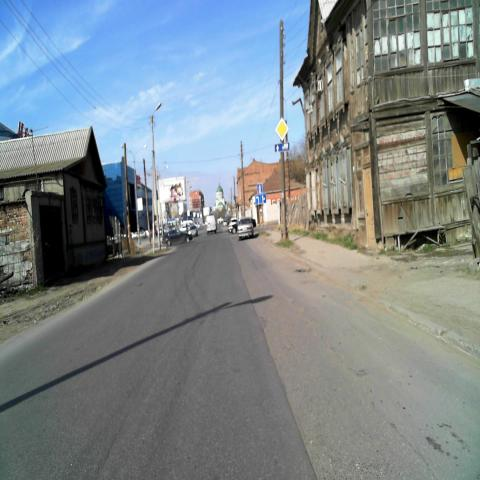6_15_1: (274, 142, 290, 154)
